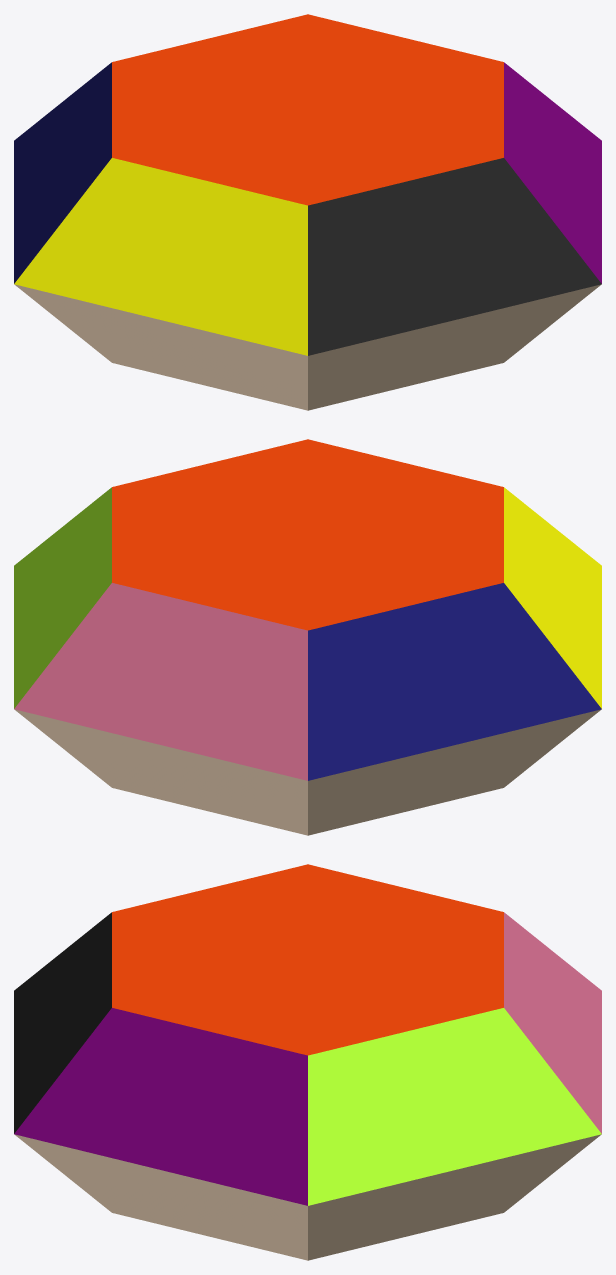
The model's file is DiamantCouleur.dae.
The picture shows the model from 3 angles, top to bottom: view 1: azimuth 30°, elevation 25°; view 2: azimuth 150°, elevation 25°; view 3: azimuth 270°, elevation 25°; orthographic projection.
Parts seen in each view (by area): view 1: SketchUp (×6); view 2: SketchUp (×6); view 3: SketchUp (×6).
Part boxes in pixels (x1,y1,x2,y2): SketchUp (×6): [14, 14, 601, 410]; SketchUp (×6): [14, 439, 601, 835]; SketchUp (×6): [14, 864, 601, 1260].
Size of the model in its own units: 118 by 102 by 39.37.
